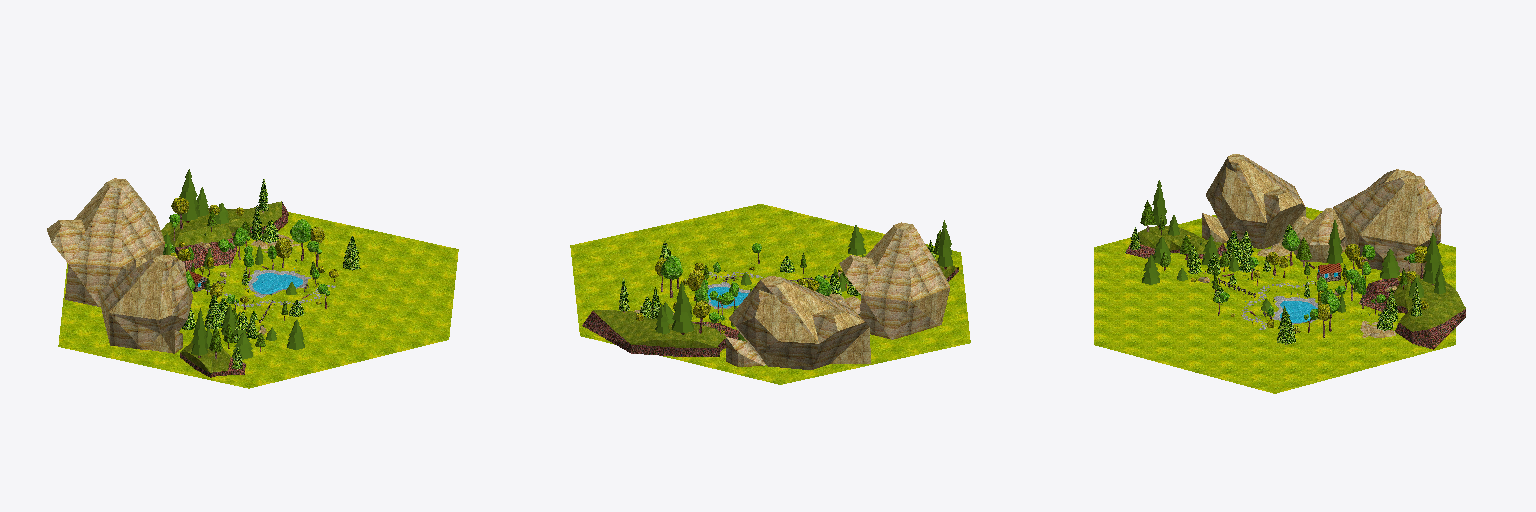
3 renders of one model, left to right at view 1: azimuth 30°, elevation 25°; view 2: azimuth 150°, elevation 25°; view 3: azimuth 270°, elevation 25°, orthographic.
Parts seen in each view (by area): view 1: Mesh439 G_3DGeom_9 Assembly_1 SimLab_skp Assembly_2 Model, Mesh278 G_3DGeom_4 Assembly_1 SimLab_skp Assembly_2 Model, Mesh285 G_3DGeom_4 Assembly_1 SimLab_skp Assembly_2 Model, Mesh248 G_3DGeom_3_1 Assembly_1 SimLab_skp Assembly_2 Model, Mesh108 G_3DGeom_1_1 Assembly_1 SimLab_skp Assembly_2 Model, Mesh251 G_3DGeom_3_1 Assembly_1 SimLab_skp Assembly_2 Model, Mesh351 G_3DGeom_6 Assembly_1 SimLab_skp Assembly_2 Model, Mesh279 G_3DGeom_4 Assembly_1 SimLab_skp Assembly_2 Model, Mesh109 G_3DGeom_1_1 Assembly_1 SimLab_skp Assembly_2 Model, Mesh566 G_3DGeom_11 Assembly_1 SimLab_skp Assembly_2 Model; view 2: Mesh439 G_3DGeom_9 Assembly_1 SimLab_skp Assembly_2 Model, Mesh279 G_3DGeom_4 Assembly_1 SimLab_skp Assembly_2 Model, Mesh278 G_3DGeom_4 Assembly_1 SimLab_skp Assembly_2 Model, Mesh108 G_3DGeom_1_1 Assembly_1 SimLab_skp Assembly_2 Model, Mesh251 G_3DGeom_3_1 Assembly_1 SimLab_skp Assembly_2 Model, Mesh351 G_3DGeom_6 Assembly_1 SimLab_skp Assembly_2 Model, Mesh252 G_3DGeom_3_1 Assembly_1 SimLab_skp Assembly_2 Model, Mesh248 G_3DGeom_3_1 Assembly_1 SimLab_skp Assembly_2 Model, Mesh254 G_3DGeom_3_1 Assembly_1 SimLab_skp Assembly_2 Model, Mesh250 G_3DGeom_3_1 Assembly_1 SimLab_skp Assembly_2 Model, Mesh9 G_3DGeom_1 G_3DGeom_12 Assembly_1 SimLab_skp Assembly_2 Mo; view 3: Mesh439 G_3DGeom_9 Assembly_1 SimLab_skp Assembly_2 Model, Mesh248 G_3DGeom_3_1 Assembly_1 SimLab_skp Assembly_2 Model, Mesh278 G_3DGeom_4 Assembly_1 SimLab_skp Assembly_2 Model, Mesh251 G_3DGeom_3_1 Assembly_1 SimLab_skp Assembly_2 Model, Mesh108 G_3DGeom_1_1 Assembly_1 SimLab_skp Assembly_2 Model, Mesh351 G_3DGeom_6 Assembly_1 SimLab_skp Assembly_2 Model, Mesh244 G_3DGeom_3_1 Assembly_1 SimLab_skp Assembly_2 Model, Mesh285 G_3DGeom_4 Assembly_1 SimLab_skp Assembly_2 Model, Mesh109 G_3DGeom_1_1 Assembly_1 SimLab_skp Assembly_2 Model, Mesh9 G_3DGeom_1 G_3DGeom_12 Assembly_1 SimLab_skp Assembly_2 Mo.
Part boxes in pixels (bbox=[...]): Mesh439 G_3DGeom_9 Assembly_1 SimLab_skp Assembly_2 Model: bbox=[58, 212, 458, 388]; Mesh278 G_3DGeom_4 Assembly_1 SimLab_skp Assembly_2 Model: bbox=[52, 184, 164, 306]; Mesh285 G_3DGeom_4 Assembly_1 SimLab_skp Assembly_2 Model: bbox=[109, 273, 187, 349]; Mesh248 G_3DGeom_3_1 Assembly_1 SimLab_skp Assembly_2 Model: bbox=[110, 255, 192, 319]; Mesh108 G_3DGeom_1_1 Assembly_1 SimLab_skp Assembly_2 Model: bbox=[161, 201, 281, 246]; Mesh251 G_3DGeom_3_1 Assembly_1 SimLab_skp Assembly_2 Model: bbox=[47, 178, 164, 242]; Mesh351 G_3DGeom_6 Assembly_1 SimLab_skp Assembly_2 Model: bbox=[175, 202, 288, 269]; Mesh279 G_3DGeom_4 Assembly_1 SimLab_skp Assembly_2 Model: bbox=[98, 258, 153, 330]; Mesh109 G_3DGeom_1_1 Assembly_1 SimLab_skp Assembly_2 Model: bbox=[180, 334, 230, 372]; Mesh566 G_3DGeom_11 Assembly_1 SimLab_skp Assembly_2 Model: bbox=[252, 273, 302, 293]; Mesh439 G_3DGeom_9 Assembly_1 SimLab_skp Assembly_2 Model: bbox=[570, 204, 970, 384]; Mesh279 G_3DGeom_4 Assembly_1 SimLab_skp Assembly_2 Model: bbox=[845, 228, 949, 339]; Mesh278 G_3DGeom_4 Assembly_1 SimLab_skp Assembly_2 Model: bbox=[726, 278, 868, 369]; Mesh108 G_3DGeom_1_1 Assembly_1 SimLab_skp Assembly_2 Model: bbox=[593, 310, 725, 347]; Mesh251 G_3DGeom_3_1 Assembly_1 SimLab_skp Assembly_2 Model: bbox=[729, 276, 863, 342]; Mesh351 G_3DGeom_6 Assembly_1 SimLab_skp Assembly_2 Model: bbox=[582, 311, 738, 356]; Mesh252 G_3DGeom_3_1 Assembly_1 SimLab_skp Assembly_2 Model: bbox=[755, 295, 818, 343]; Mesh248 G_3DGeom_3_1 Assembly_1 SimLab_skp Assembly_2 Model: bbox=[839, 222, 948, 283]; Mesh254 G_3DGeom_3_1 Assembly_1 SimLab_skp Assembly_2 Model: bbox=[831, 327, 870, 363]; Mesh250 G_3DGeom_3_1 Assembly_1 SimLab_skp Assembly_2 Model: bbox=[912, 288, 949, 325]; Mesh9 G_3DGeom_1 G_3DGeom_12 Assembly_1 SimLab_skp Assembly_2 Mo: bbox=[672, 290, 693, 332]; Mesh439 G_3DGeom_9 Assembly_1 SimLab_skp Assembly_2 Model: bbox=[1094, 207, 1455, 393]; Mesh248 G_3DGeom_3_1 Assembly_1 SimLab_skp Assembly_2 Model: bbox=[1206, 154, 1305, 248]; Mesh278 G_3DGeom_4 Assembly_1 SimLab_skp Assembly_2 Model: bbox=[1333, 170, 1441, 272]; Mesh251 G_3DGeom_3_1 Assembly_1 SimLab_skp Assembly_2 Model: bbox=[1360, 169, 1429, 244]; Mesh108 G_3DGeom_1_1 Assembly_1 SimLab_skp Assembly_2 Model: bbox=[1394, 274, 1465, 331]; Mesh351 G_3DGeom_6 Assembly_1 SimLab_skp Assembly_2 Model: bbox=[1359, 278, 1465, 349]; Mesh244 G_3DGeom_3_1 Assembly_1 SimLab_skp Assembly_2 Model: bbox=[1294, 208, 1359, 262]; Mesh285 G_3DGeom_4 Assembly_1 SimLab_skp Assembly_2 Model: bbox=[1209, 178, 1266, 244]; Mesh109 G_3DGeom_1_1 Assembly_1 SimLab_skp Assembly_2 Model: bbox=[1138, 226, 1222, 253]; Mesh9 G_3DGeom_1 G_3DGeom_12 Assembly_1 SimLab_skp Assembly_2 Mo: bbox=[1423, 241, 1443, 283].
Bounding box in the file's own units: 103 × 20.27 × 82.5.
20 materials, 17 textured.